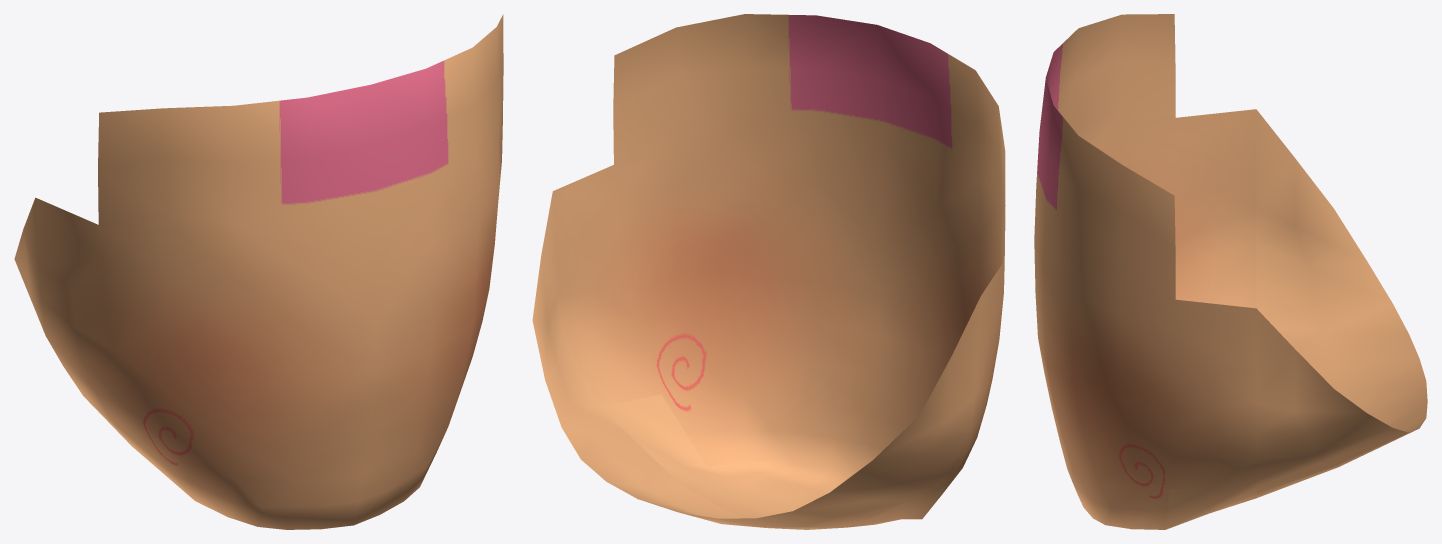
File: Faceline_6.glb
3 views of the same model, side by side, from view 1: azimuth 30°, elevation 25°; view 2: azimuth 150°, elevation 25°; view 3: azimuth 270°, elevation 25° (orthographic). The views are drawn at different scales.
Visible parts, largest first — view 1: Head06; view 2: Head06; view 3: Head06.
Part boxes in pixels (x1=…): Head06: x1=14, y1=14, x2=503, y2=529; Head06: x1=532, y1=14, x2=1005, y2=529; Head06: x1=1034, y1=14, x2=1427, y2=529.
Bounding box in the file's own units: 52.6 × 52.13 × 43.89.
Materials: 1 (1 with a texture image).
